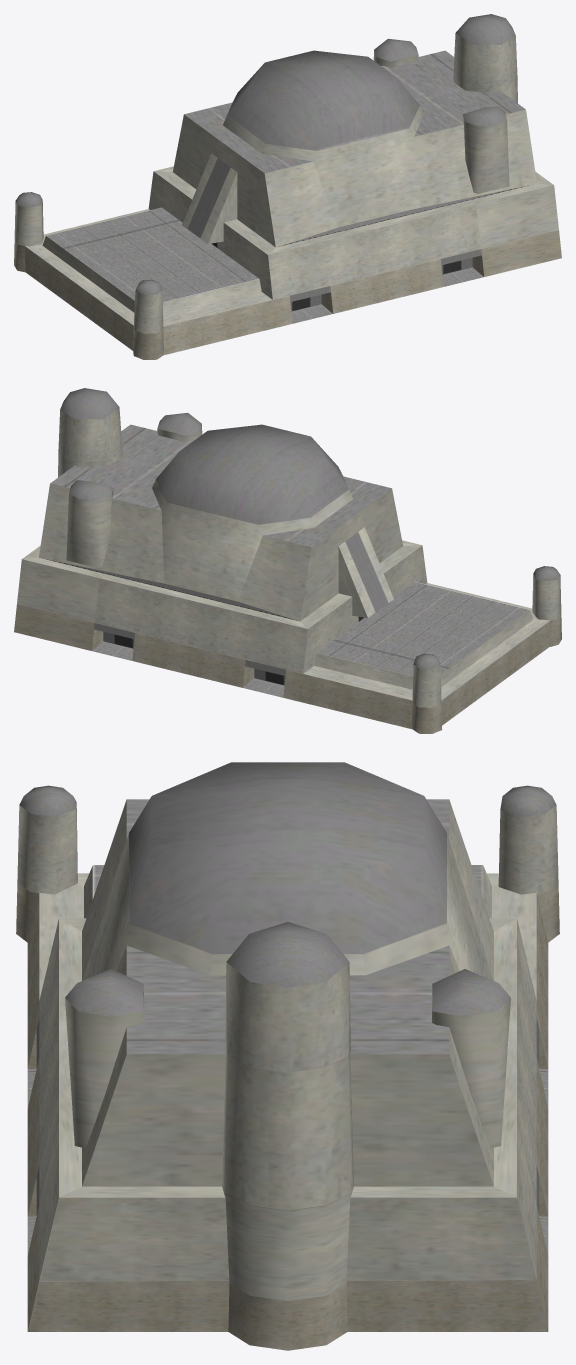
The model's file is mun_all_hospital_s01_r0_mesh_l3.fbx.
The picture shows the model from 3 angles, top to bottom: view 1: azimuth 30°, elevation 25°; view 2: azimuth 150°, elevation 25°; view 3: azimuth 270°, elevation 25°; orthographic projection. The views are drawn at different scales.
Visible parts, largest first — view 1: mesh_node; view 2: mesh_node; view 3: mesh_node.
Boxes of the visible parts, x1,y1,x2,y2 form: mesh_node: [14, 14, 561, 359]; mesh_node: [14, 388, 561, 733]; mesh_node: [16, 762, 559, 1350].
Bounding box in the file's own units: 97.78 × 41.29 × 52.24.
